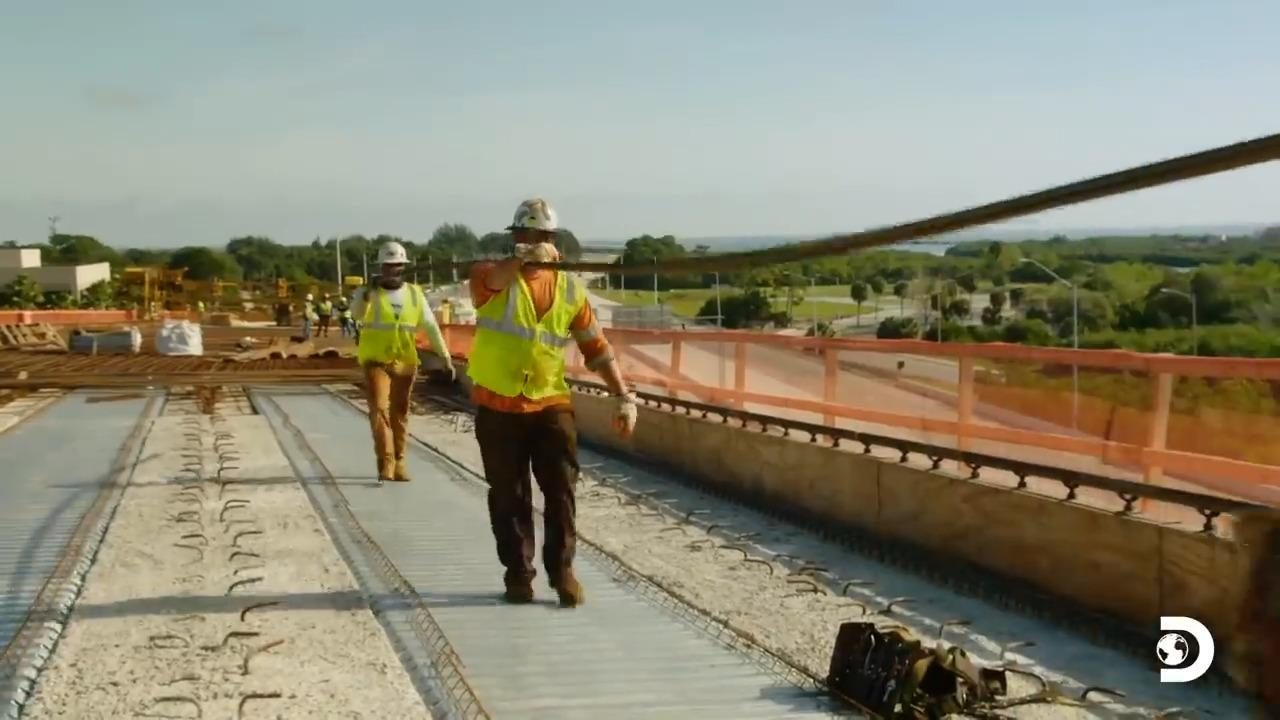Gloves: (612, 389, 660, 443), (516, 231, 561, 277), (436, 358, 458, 382)
Helmet: (504, 197, 558, 232), (375, 241, 410, 265)
Person: (464, 197, 637, 607), (349, 241, 456, 481)
Safety Boot: (548, 564, 588, 609), (500, 569, 533, 605), (395, 455, 414, 482), (374, 461, 398, 481)
Safety Vest: (483, 280, 576, 408), (364, 290, 418, 370)
